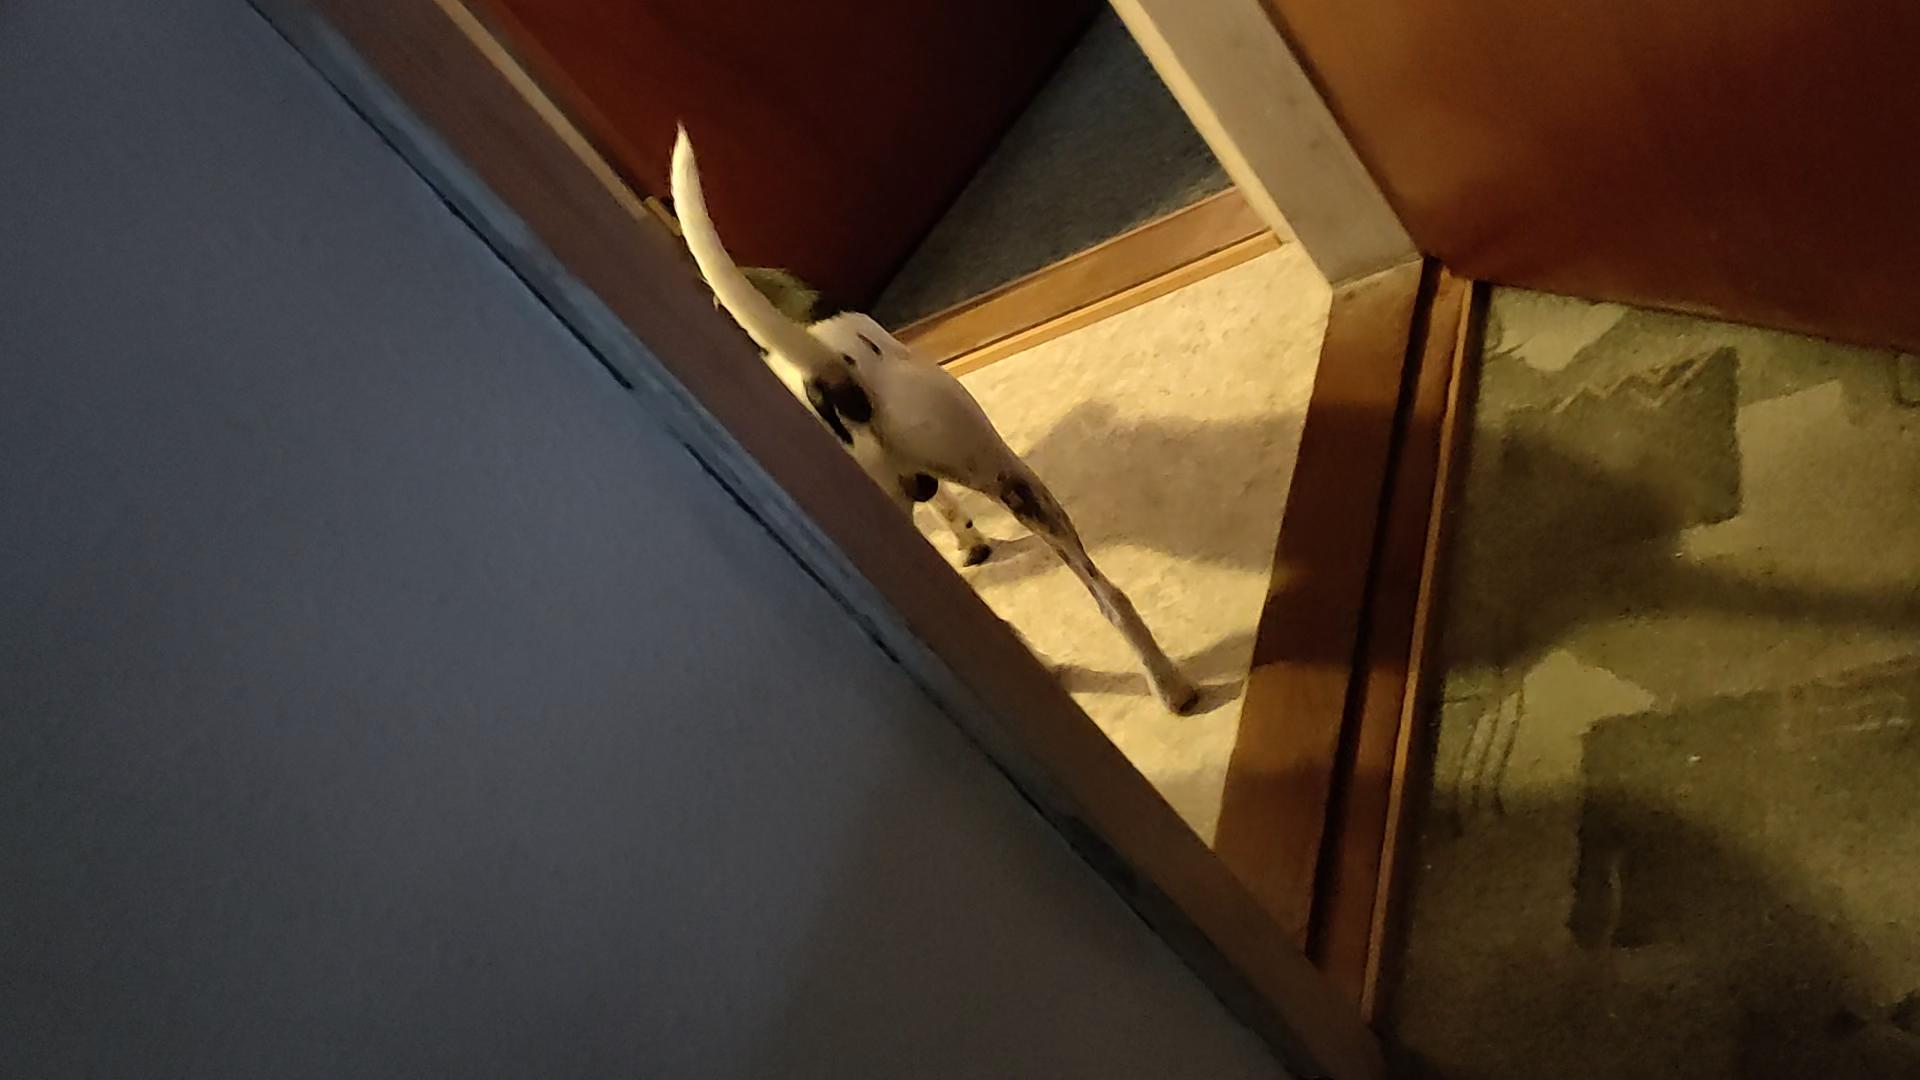Dog: (659, 108, 1213, 727)
